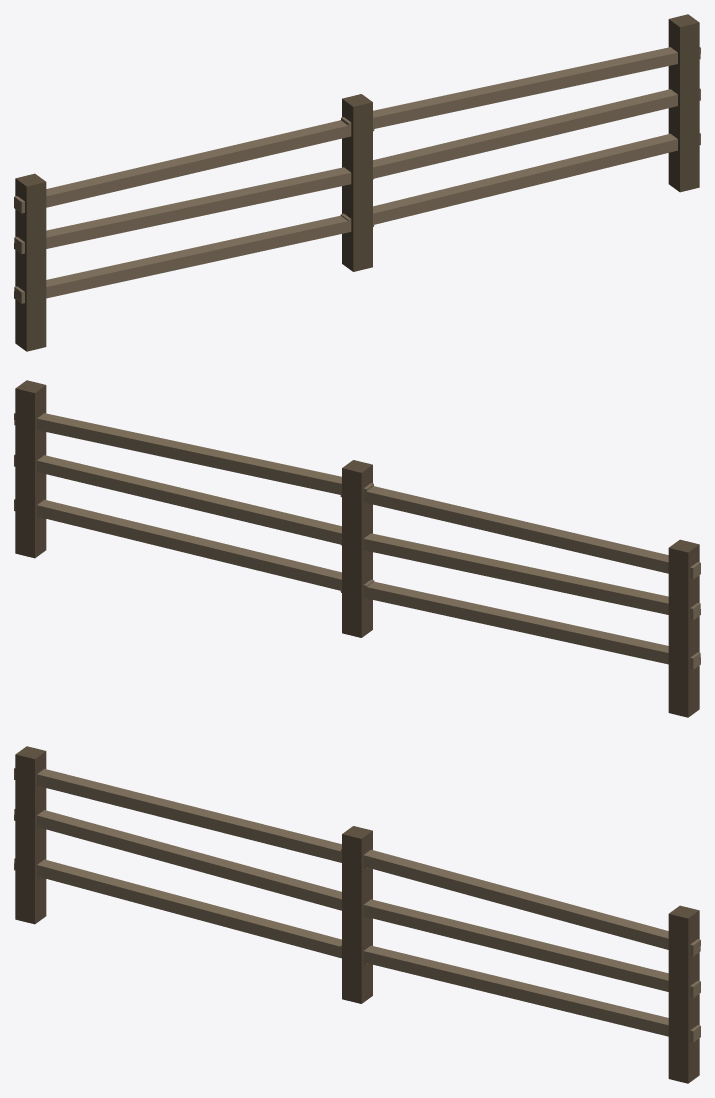
File: post_rail.glb
The picture shows the model from 3 angles, top to bottom: view 1: azimuth 30°, elevation 25°; view 2: azimuth 150°, elevation 25°; view 3: azimuth 330°, elevation 25°; orthographic projection.
Parts seen in each view (by area): view 1: post_rail; view 2: post_rail; view 3: post_rail.
Boxes of the visible parts, left/top/right/bottom form: post_rail: left=14, top=14, right=700, bottom=351; post_rail: left=14, top=380, right=700, bottom=717; post_rail: left=14, top=746, right=700, bottom=1083.
Size of the model in its own units: 6.24 by 1.45 by 0.18.
